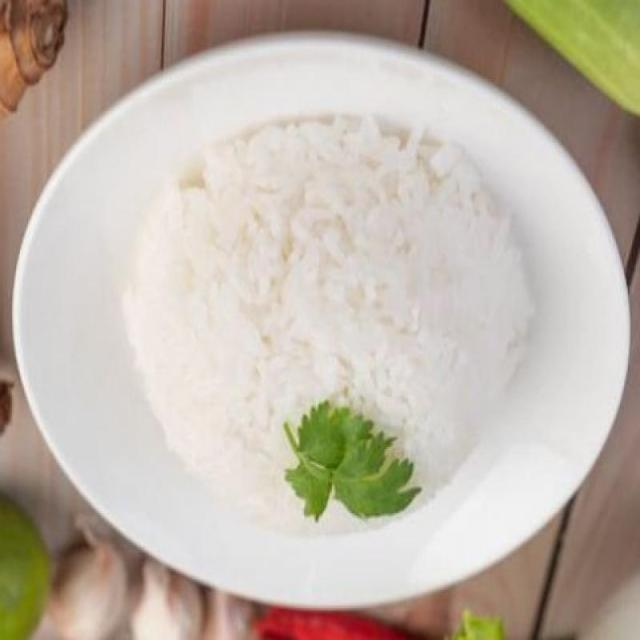nasi_putih: (127, 115, 530, 544)
